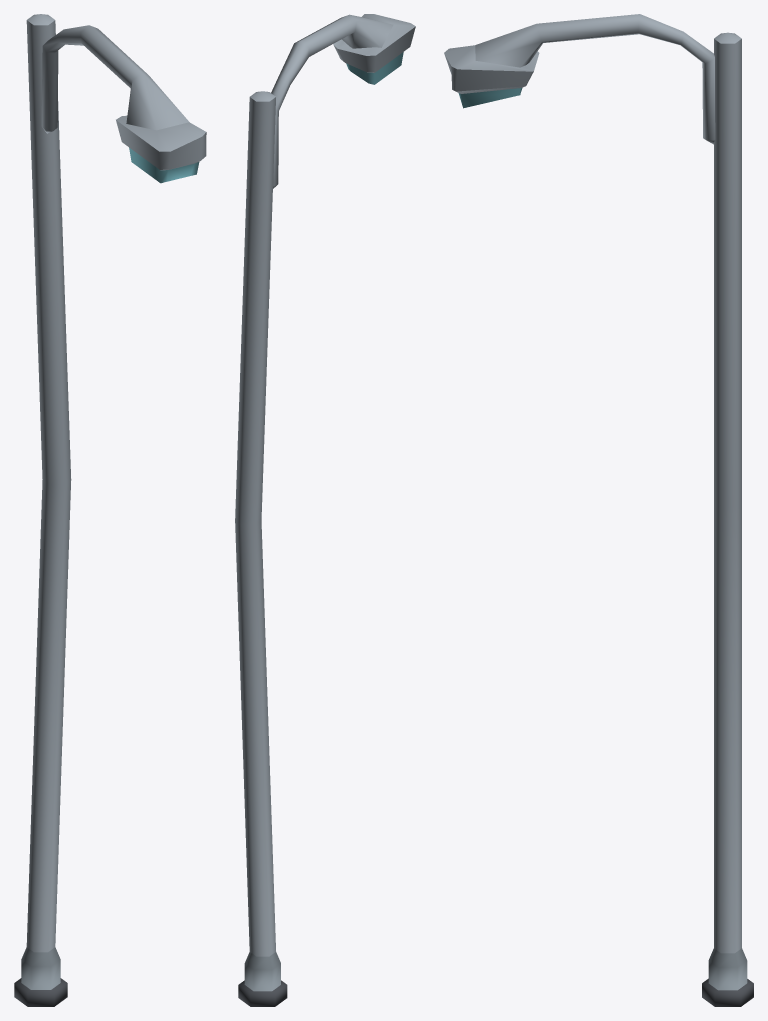
Rendered from Streetlight.fbx.
3 renders of one model, left to right at view 1: azimuth 30°, elevation 25°; view 2: azimuth 150°, elevation 25°; view 3: azimuth 270°, elevation 25°, orthographic. The views are drawn at different scales.
Visible parts, largest first — view 1: Streetlight; view 2: Streetlight; view 3: Streetlight.
Part boxes in pixels (<box>): Streetlight: <box>14,14,206,1006</box>; Streetlight: <box>235,14,415,1006</box>; Streetlight: <box>444,14,753,1006</box>.
Bounding box in the file's own units: 53.31 × 994 × 283.
